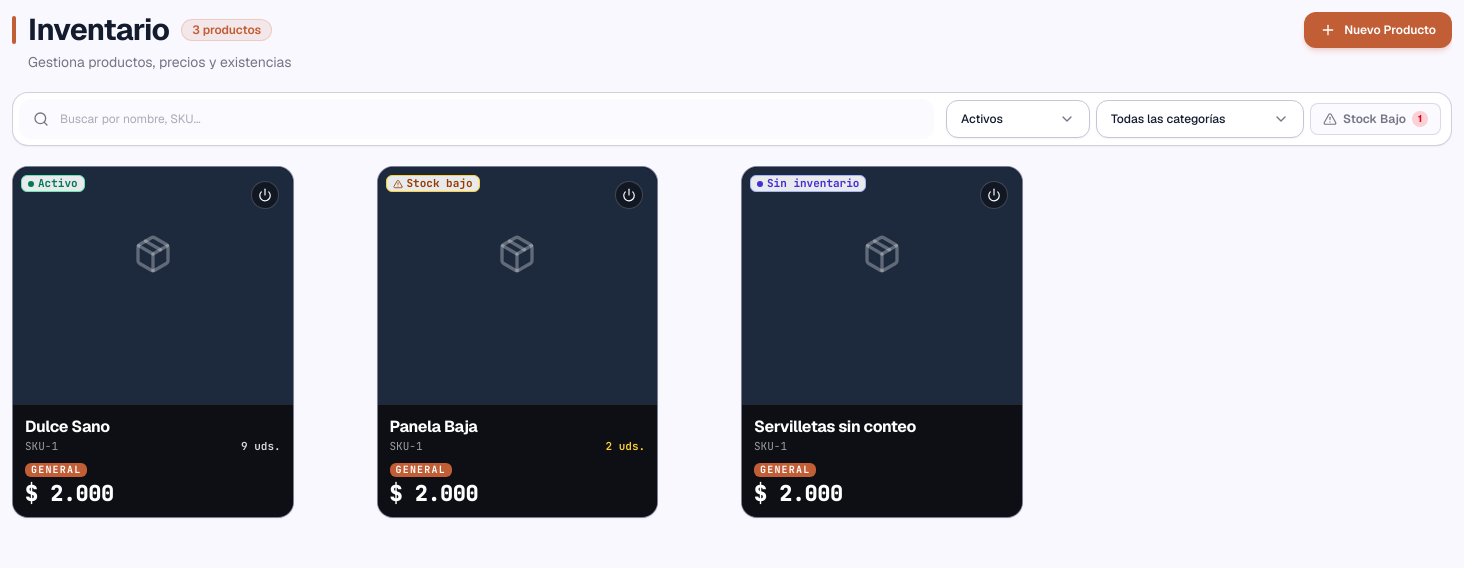
Test: Inventory page — characterization (current behavior) › low-stock toggle skips untracked products, which the server never flags as low
The width and height of the screenshot is (1464, 568).
Click the button "Stock Bajo 1".
click(1376, 119)  # box [1310,103,1441,135]
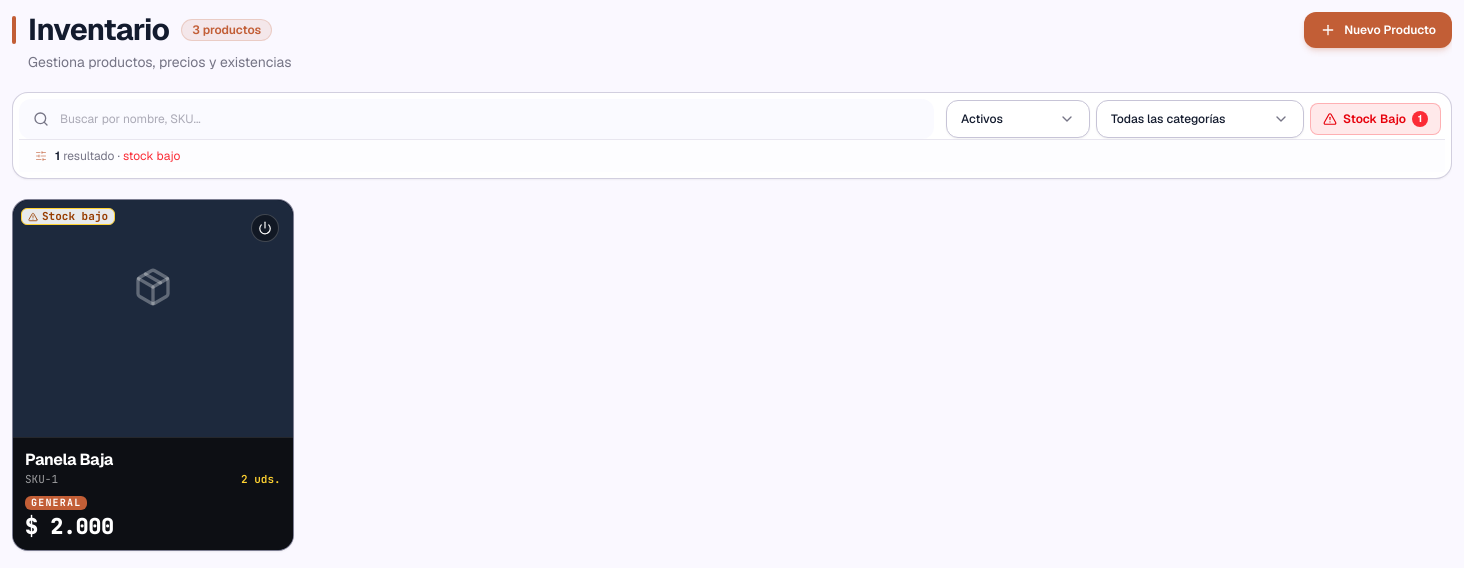
Check: the heading "Panela Baja" is shown, box [25,449,113,470]
Check: the heading "Dulce Sano" is gone
Check: the heading "Servilletas sin conteo" is gone
